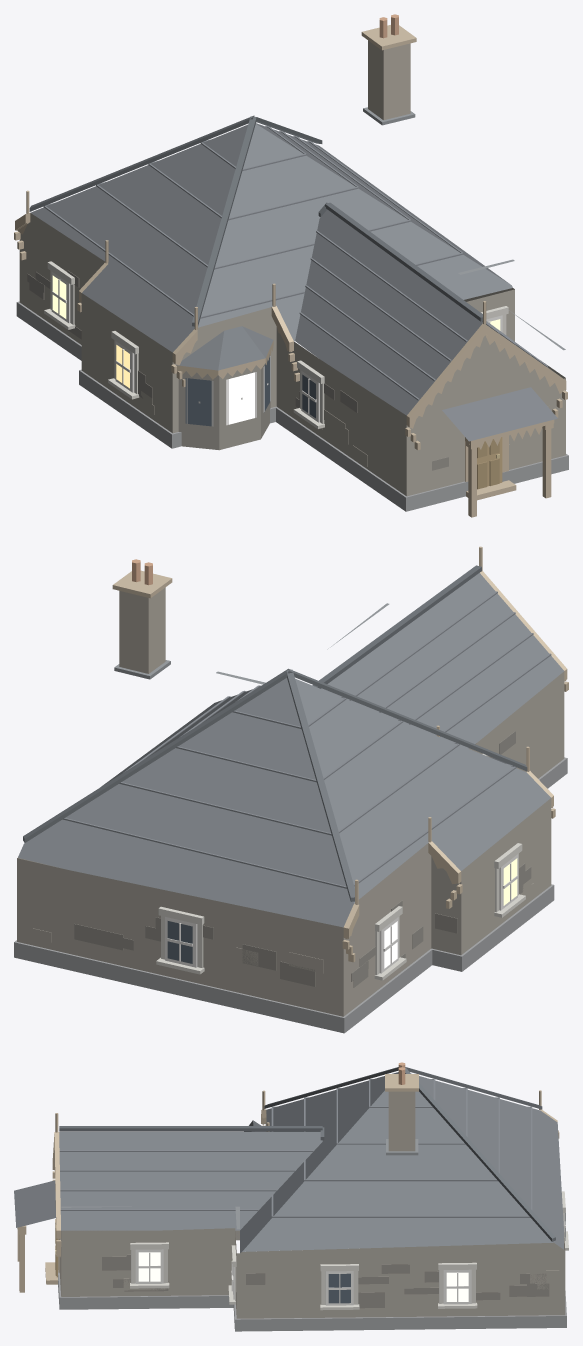
3 views of the same model, one above another, from view 1: azimuth 30°, elevation 25°; view 2: azimuth 150°, elevation 25°; view 3: azimuth 270°, elevation 25° (orthographic). The views are drawn at different scales.
Visible parts, largest first — view 1: slate, rubble_lt, larch, plinth, slate_lt, slate_dk, windows, rubble, chim_stone, dress_cream, frame, rubble_dk (+1 smaller); view 2: slate, rubble_lt, plinth, slate_dk, slate_lt, rubble_dk, chim_stone, larch, dress_cream, windows, frame, lead; view 3: slate, rubble_lt, plinth, slate_lt, slate_dk, rubble_dk, dress_cream, larch, windows, frame, chim_stone, lead.
Boxes of the visible parts, box(x1,y1,x2,y2) form: slate: box(30, 123, 557, 441); rubble_lt: box(19, 213, 565, 496); larch: box(14, 25, 567, 517); plinth: box(16, 301, 568, 511); slate_lt: box(43, 126, 548, 400); slate_dk: box(29, 115, 482, 326); windows: box(52, 275, 500, 426); rubble: box(178, 354, 270, 450); chim_stone: box(368, 40, 410, 120); dress_cream: box(44, 261, 508, 428); frame: box(51, 272, 502, 426); rubble_dk: box(27, 270, 448, 470); slate: box(18, 573, 563, 927); rubble_lt: box(17, 671, 564, 1016); plinth: box(14, 757, 567, 1033); slate_dk: box(23, 565, 527, 901); slate_lt: box(62, 591, 551, 888); rubble_dk: box(74, 731, 531, 987); chim_stone: box(119, 587, 165, 673); larch: box(112, 546, 568, 962); dress_cream: box(156, 753, 525, 980); windows: box(167, 858, 517, 968); frame: box(165, 854, 517, 973); lead: box(114, 603, 389, 684); slate: box(14, 1072, 563, 1252); rubble_lt: box(59, 1114, 565, 1318); plinth: box(58, 1230, 566, 1331); slate_lt: box(59, 1079, 532, 1217); slate_dk: box(59, 1067, 555, 1241); rubble_dk: box(102, 1254, 549, 1308); dress_cream: box(130, 1191, 568, 1310); larch: box(17, 1074, 559, 1292); windows: box(138, 1213, 565, 1303); frame: box(135, 1207, 565, 1305); chim_stone: box(388, 1091, 415, 1151); lead: box(61, 1139, 418, 1229).
Bounding box in the file's own units: 11.28 × 9.47 × 18.84.
